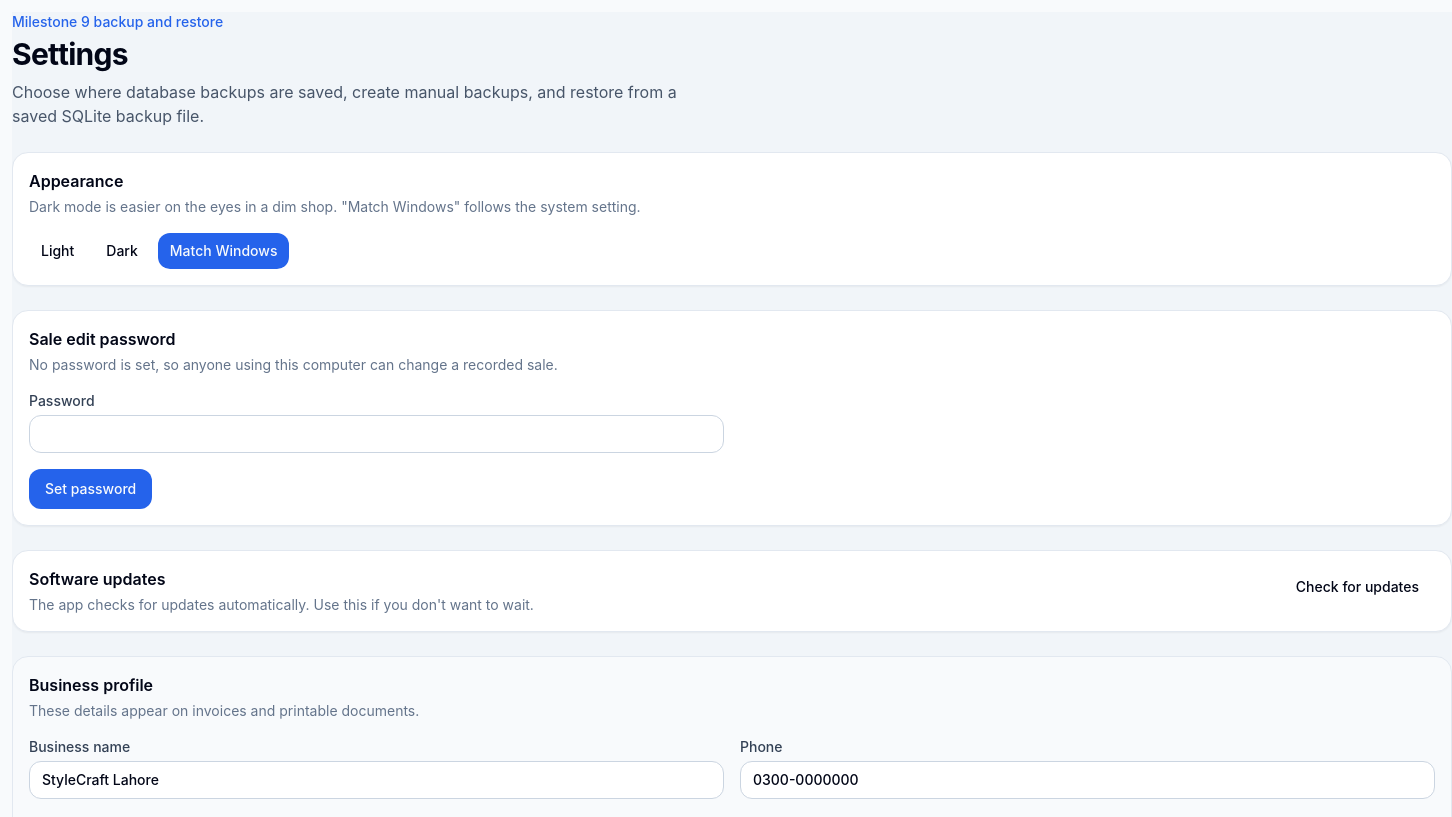
Scenario: SettingsScreen › shows an error when the update check fails
Click the button "Check for updates" at (1357, 587), box [1280, 567, 1435, 607]
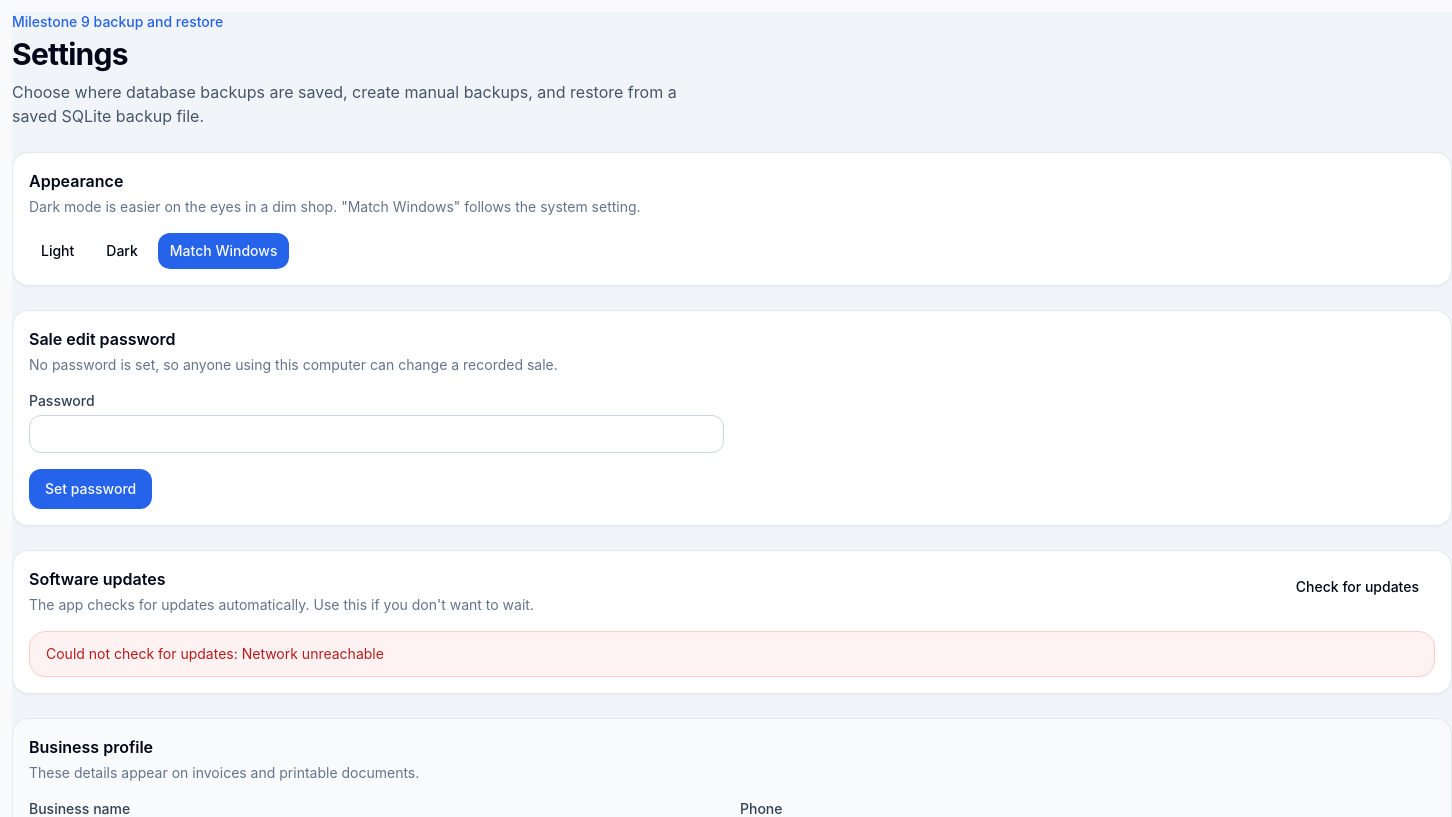
Now the message reads "Could not check for updates: Network unreachable", box [46, 645, 384, 662]
